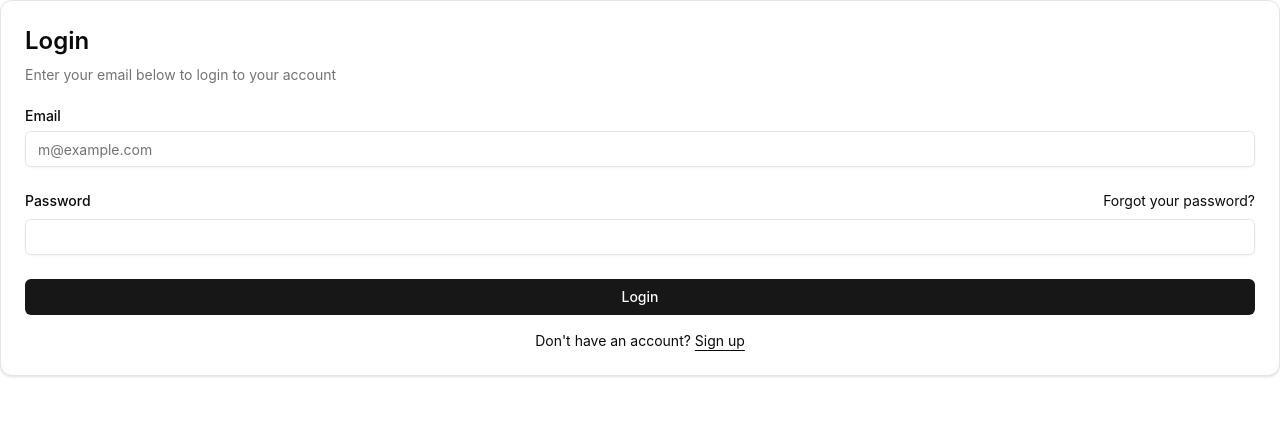
Scenario: LoginForm › shows a fixed copy line and does not navigate when sign-in fails
This screenshot has width=1280, height=438.
Type "user@example.com" into the field labelled "Email" at (640, 149), box top-left (25, 131), bottom-right (1255, 167)
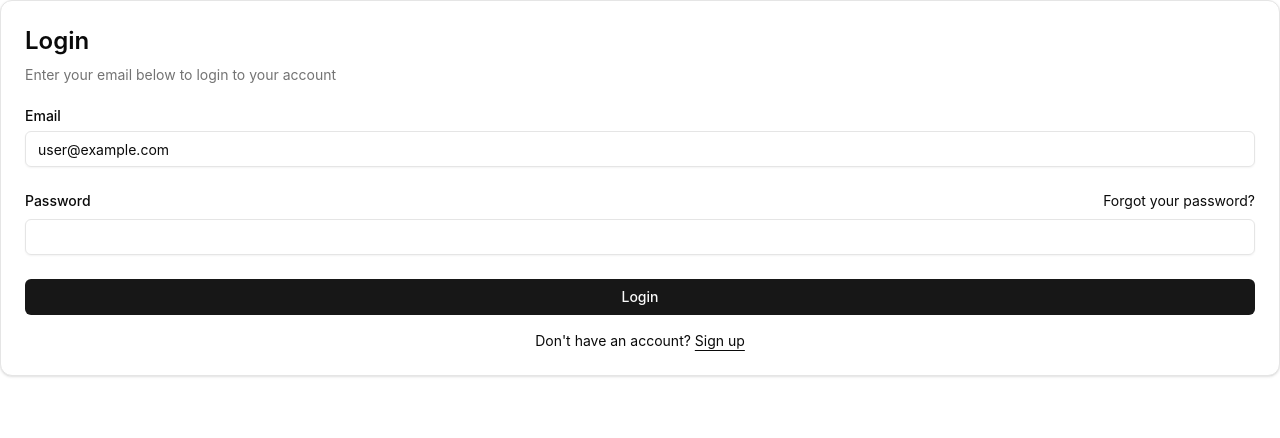
Type "sup3r-secret" into the password field labelled "Password" at (640, 237), box top-left (25, 219), bottom-right (1255, 255)
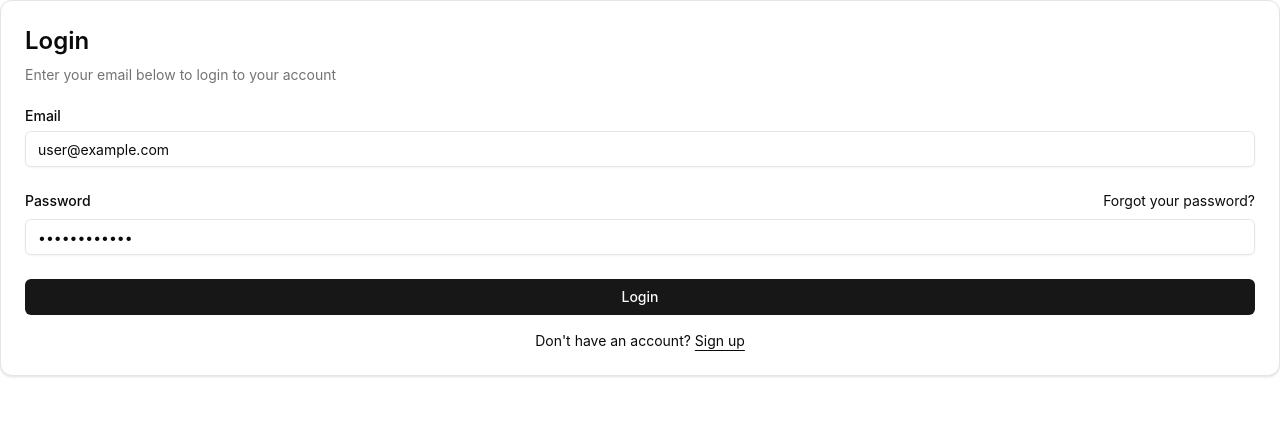
Click the button "Login" at (640, 297), box top-left (25, 279), bottom-right (1255, 315)
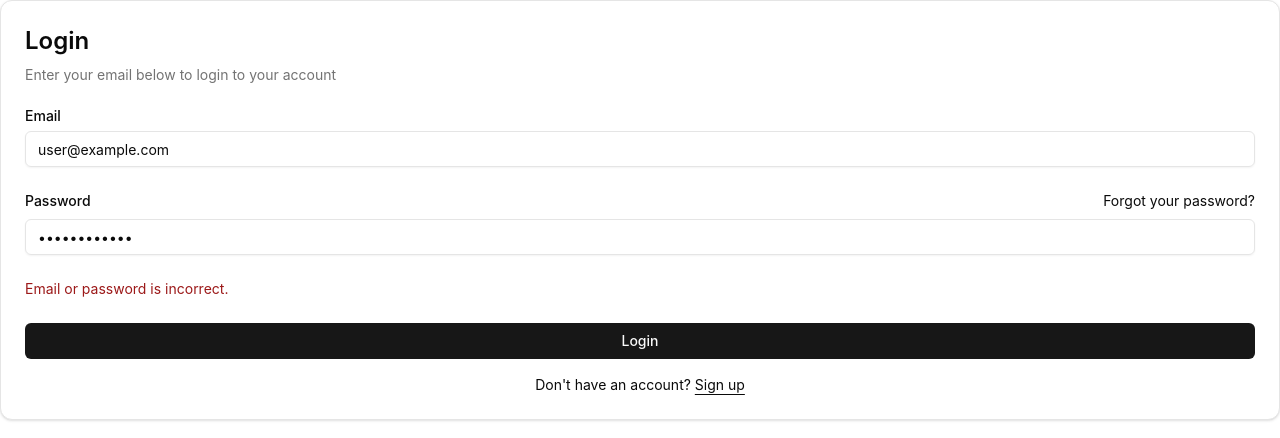
Expected: the text "Email or password is incorrect." is shown, top-left (25, 280), bottom-right (228, 297)
